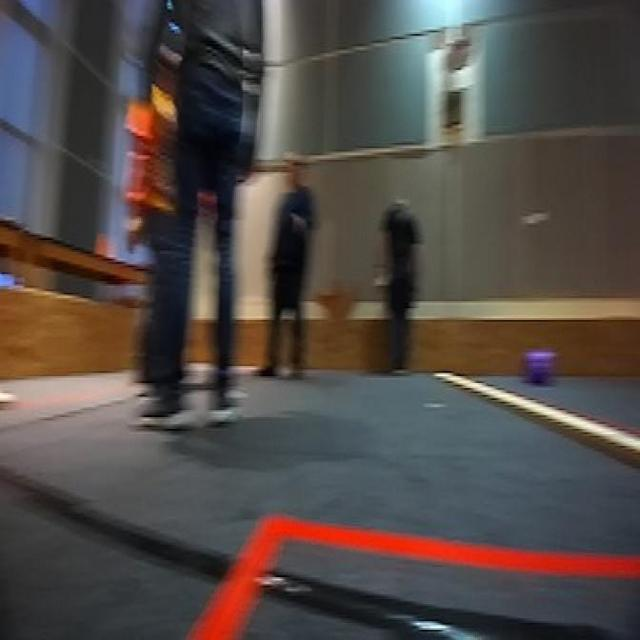frc_cube: (524, 347, 554, 388)
